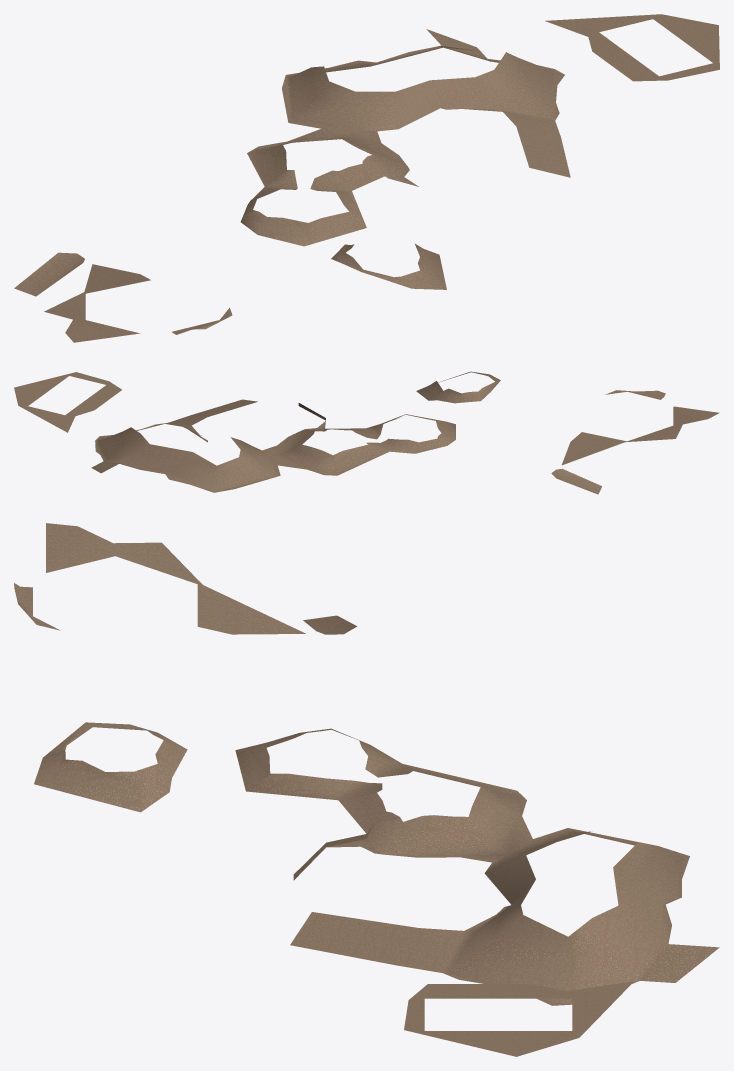
Rendered from kd_connection_town-ground_surface_2_17.glb.
The picture shows the model from 3 angles, top to bottom: view 1: azimuth 30°, elevation 25°; view 2: azimuth 150°, elevation 25°; view 3: azimuth 270°, elevation 25°; orthographic projection. The views are drawn at different scales.
Parts seen in each view (by area): view 1: kd_connection_town-ground_surface_2_17; view 2: kd_connection_town-ground_surface_2_17; view 3: kd_connection_town-ground_surface_2_17.
Part boxes in pixels (x1,y1,x2,y2): kd_connection_town-ground_surface_2_17: [14, 14, 719, 342]; kd_connection_town-ground_surface_2_17: [14, 371, 719, 494]; kd_connection_town-ground_surface_2_17: [14, 523, 719, 1056].
Size of the model in its own units: 133 by 8.1 by 79.37.
1 material, 1 textured.
